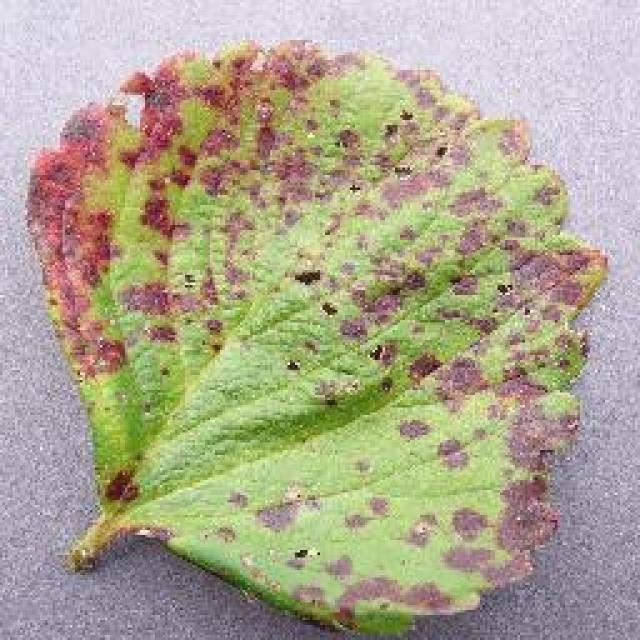Strawberry leaf scorch: (32, 32, 500, 493)
